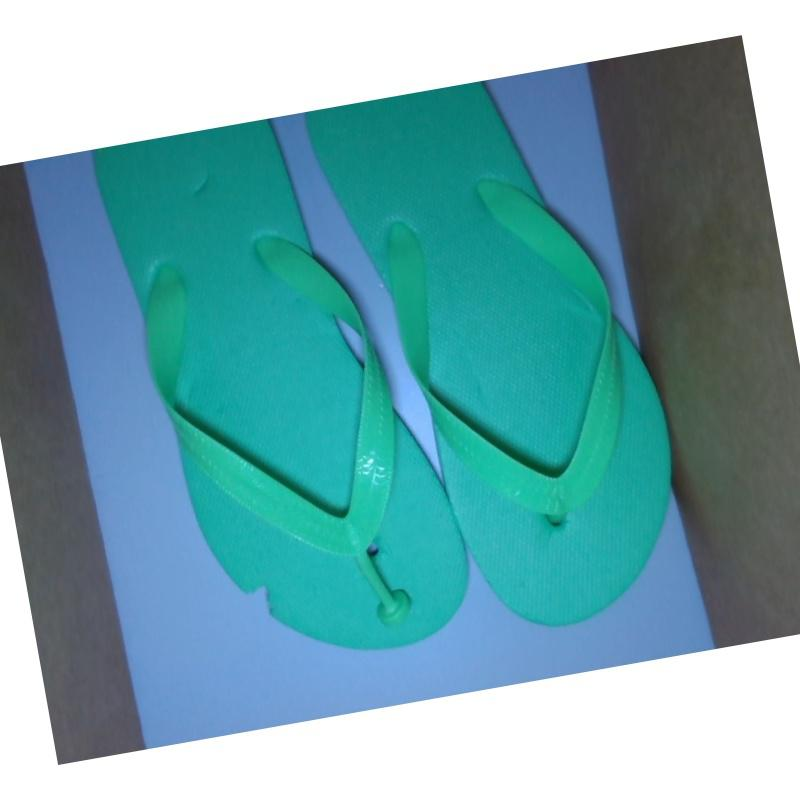chipped: (231, 567, 291, 631)
detached: (360, 583, 434, 635)
